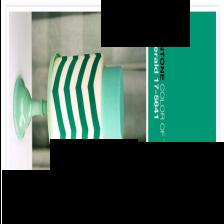green: (146, 8, 219, 217), (12, 52, 60, 162), (100, 66, 123, 142), (74, 54, 89, 156), (62, 55, 77, 156), (51, 56, 66, 156), (87, 53, 100, 156)
